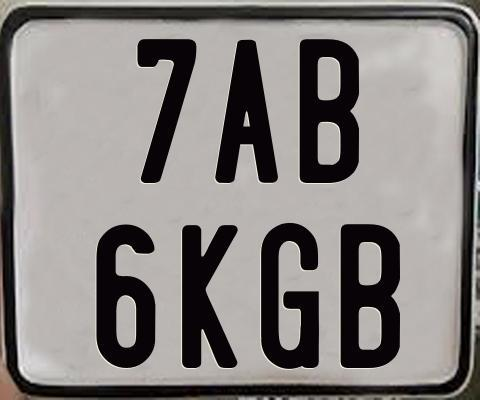6: (94, 224, 159, 370)
7: (136, 36, 201, 183)
A: (213, 37, 278, 186)
B: (339, 222, 402, 367), (297, 36, 359, 180)
G: (261, 222, 325, 374)
K: (179, 223, 235, 372)
